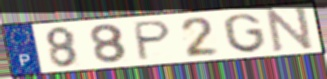2: (179, 16, 221, 59)
8: (88, 22, 129, 64), (44, 25, 82, 69)
G: (221, 12, 268, 54)
N: (265, 5, 315, 53)
P: (133, 19, 174, 63)
